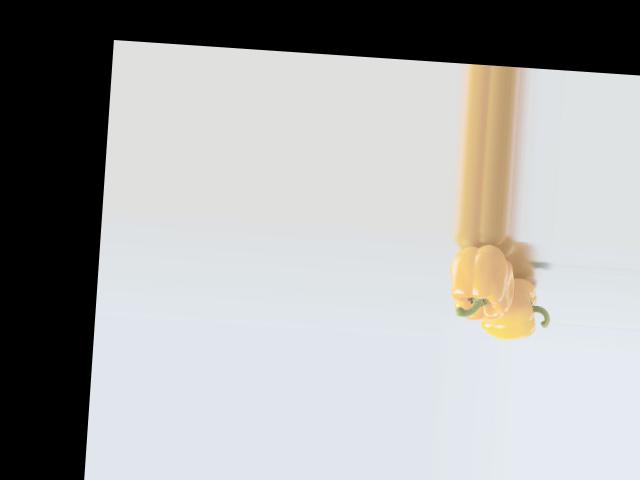bell_pepper: (477, 264, 552, 343)
